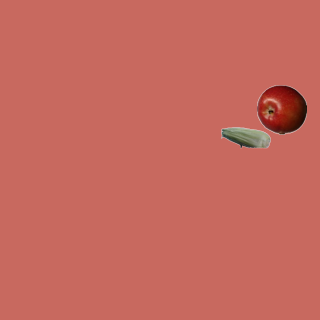Apple Braeburn: (256, 84, 306, 134)
Corn Husk: (220, 112, 270, 162)
